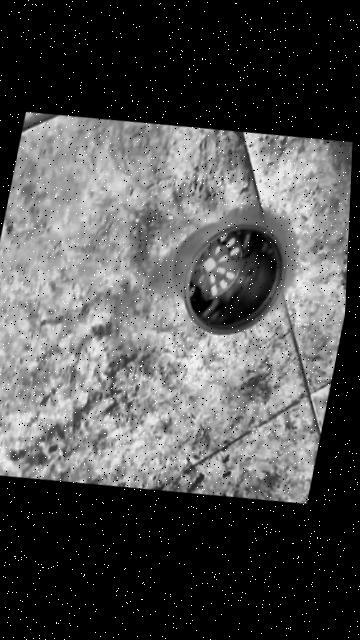pot: (159, 210, 294, 347)
